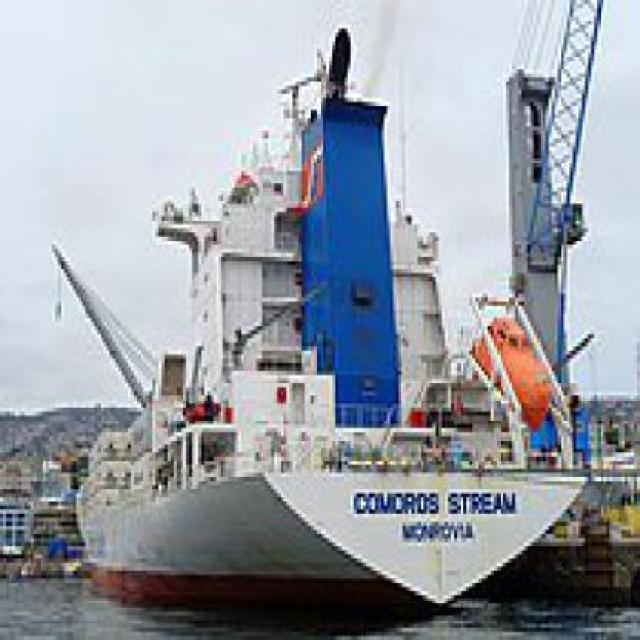container: (74, 17, 599, 620)
